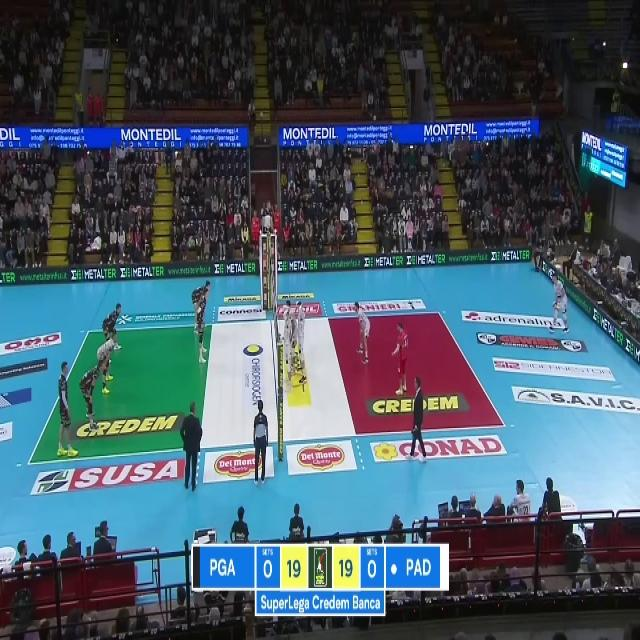volleyball court: (25, 311, 507, 463)
